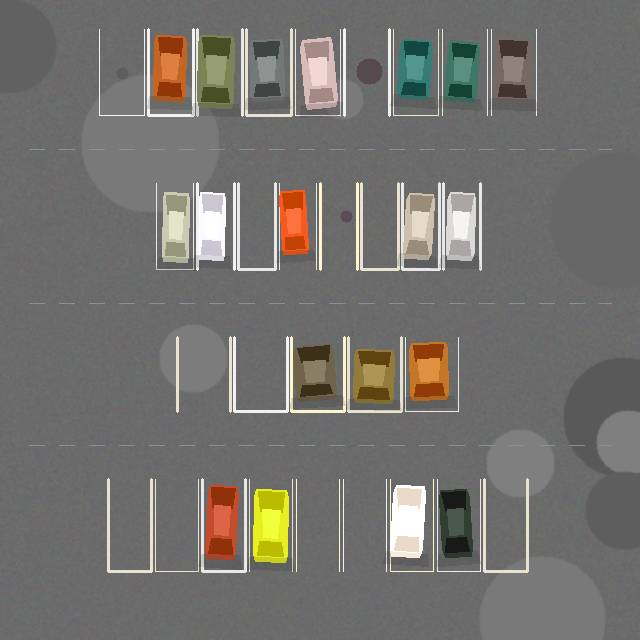space-empty: (108, 479, 151, 571), (155, 479, 198, 571), (296, 479, 339, 571), (343, 479, 386, 571), (484, 479, 527, 571), (177, 337, 230, 411), (234, 337, 287, 411), (99, 29, 144, 115), (344, 29, 389, 115), (238, 183, 275, 269), (320, 183, 357, 269), (361, 183, 398, 269)
space-occupied: (202, 479, 245, 571), (249, 479, 292, 571), (390, 479, 433, 571), (437, 479, 480, 571), (291, 337, 344, 411), (348, 337, 401, 411), (405, 337, 458, 411), (148, 29, 193, 115), (197, 29, 242, 115), (246, 29, 291, 115), (295, 29, 340, 115), (393, 29, 438, 115), (442, 29, 487, 115), (491, 29, 536, 115), (156, 183, 193, 269), (197, 183, 234, 269), (279, 183, 316, 269), (402, 183, 439, 269), (443, 183, 480, 269)
